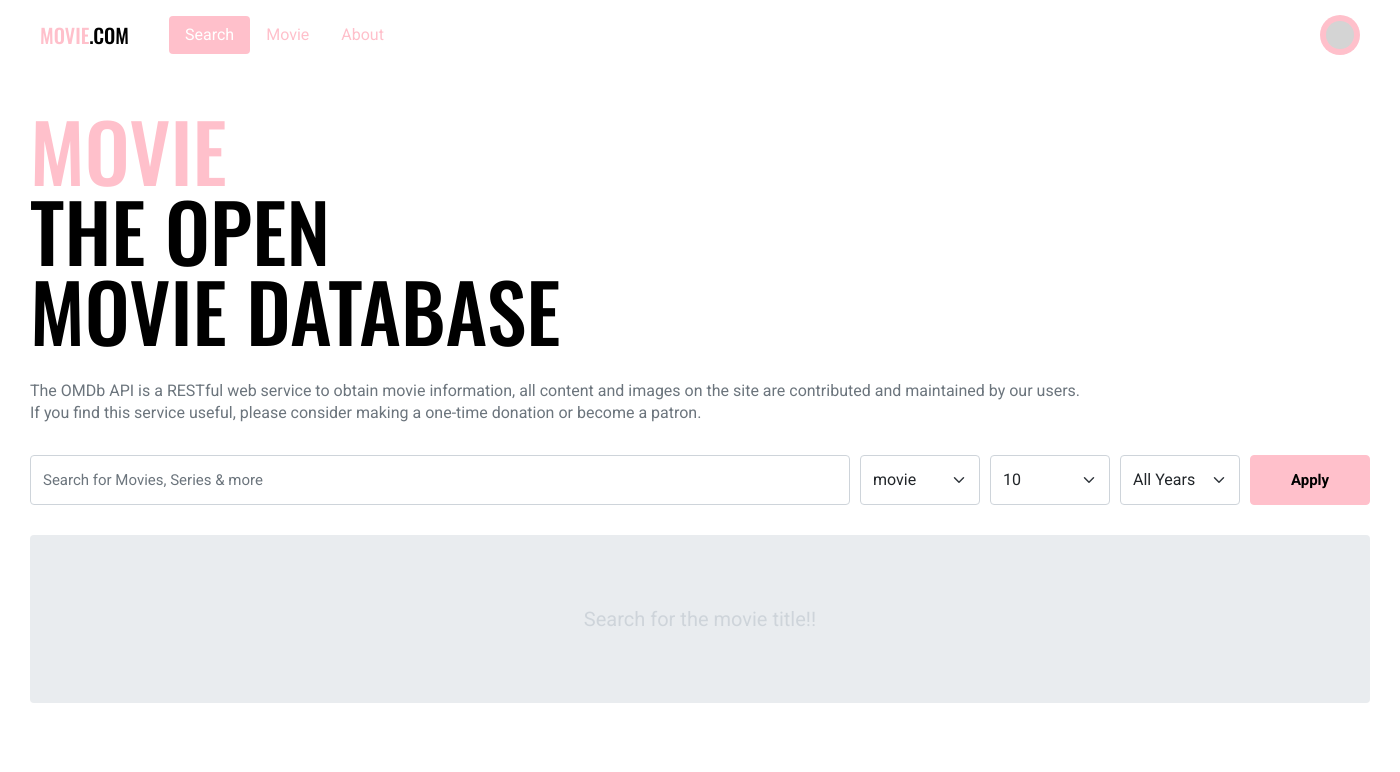
Test: About 페이지로 이동 › About 페이지로 이동합니다
About 내비게이션 버튼 클릭!
Click the link "About": (363, 35) [341,25,384,44]
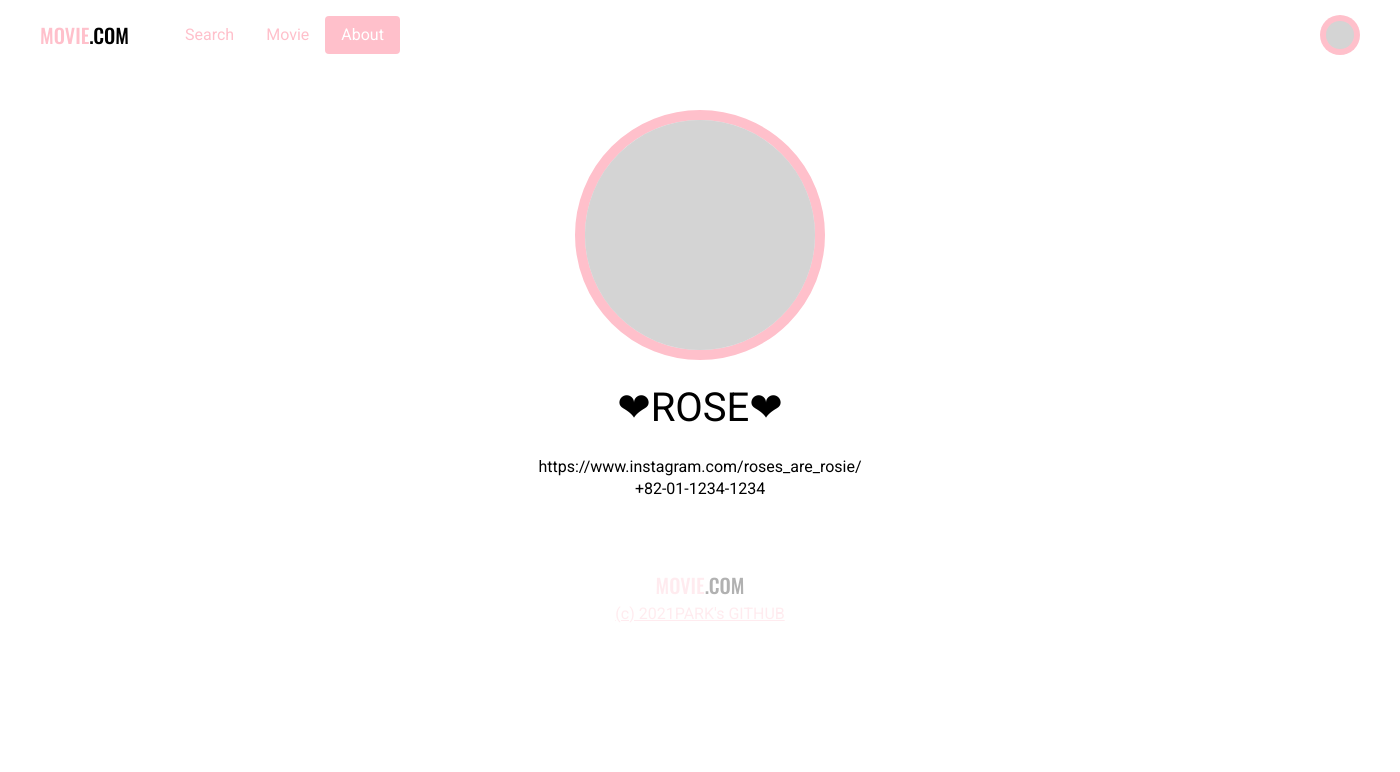
Expected: the link "About" is shown, [325,16,400,54]
Expected: the text "❤ROSE❤" is shown, [617,384,783,431]
